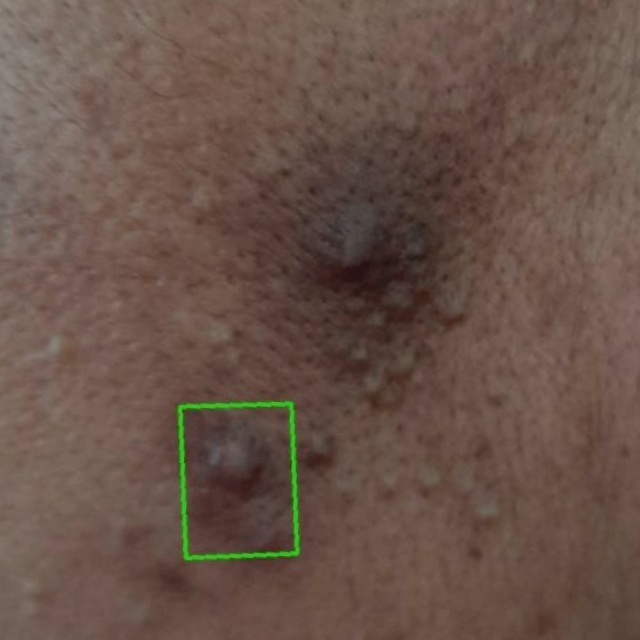Tinea Corporis: (180, 403, 297, 558)
